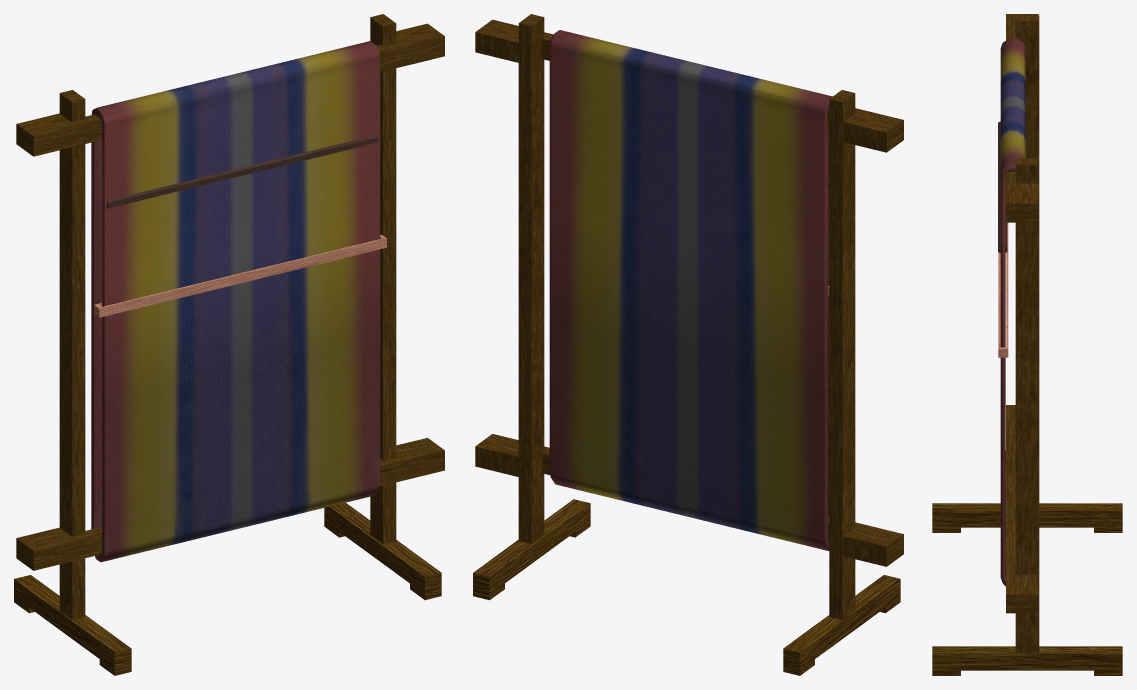
The model's file is Telar.glb.
The picture shows the model from 3 angles, left to right: view 1: azimuth 30°, elevation 25°; view 2: azimuth 150°, elevation 25°; view 3: azimuth 270°, elevation 25°; orthographic projection. The views are drawn at different scales.
Parts seen in each view (by area): view 1: pTorus1, pCube3, pCube4, pCube5, pCube6, pCube2, pCube1, pCube7, pCylinder1; view 2: pTorus1, pCube4, pCube3, pCube1, pCube6, pCube2, pCube5; view 3: pCube4, pTorus1, pCube1, pCube2, pCube5, pCube3, pCube6, pCube7, pCylinder1.
Part boxes in pixels (x1,y1,x2,y2): pTorus1: (91,41,380,562); pCube3: (59,90,85,619); pCube4: (370,14,396,543); pCube5: (16,438,444,570); pCube6: (16,23,444,156); pCube2: (14,575,131,675); pCube1: (324,502,441,600); pCube7: (94,234,386,317); pCylinder1: (107,135,378,208); pTorus1: (549,30,832,550); pCube4: (518,14,544,543); pCube3: (829,90,855,619); pCube1: (473,499,590,600); pCube6: (475,19,903,152); pCube2: (783,575,900,675); pCube5: (475,434,903,566); pCube4: (1015,158,1039,653); pTorus1: (1000,38,1025,586); pCube1: (932,646,1122,675); pCube2: (932,503,1122,532); pCube5: (1006,405,1038,613); pCube3: (1015,15,1039,158); pCube6: (1006,14,1038,222); pCube7: (998,222,1008,357); pCylinder1: (998,121,1007,253).
Bounding box in the file's own units: 1.23 × 1.55 × 0.5217.
Materials: 4 (4 with a texture image).
